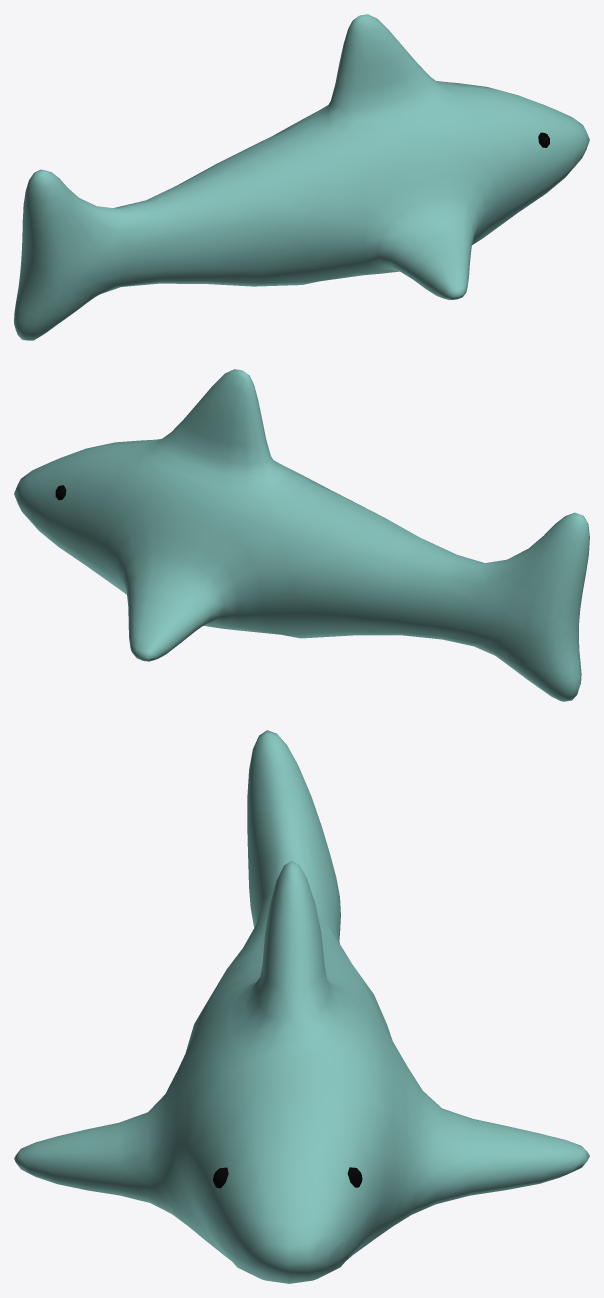
File: Shark_Toy.fbx
3 views of the same model, one above another, from view 1: azimuth 30°, elevation 25°; view 2: azimuth 150°, elevation 25°; view 3: azimuth 270°, elevation 25° (orthographic). The views are drawn at different scales.
Parts seen in each view (by area): view 1: SharkPlushy_a; view 2: SharkPlushy_a; view 3: SharkPlushy_a.
Part boxes in pixels (x1,y1,x2,y2): SharkPlushy_a: (14, 14, 589, 340); SharkPlushy_a: (14, 369, 589, 701); SharkPlushy_a: (14, 730, 589, 1283).
Size of the model in its own units: 4.91 by 2.07 by 3.04.
